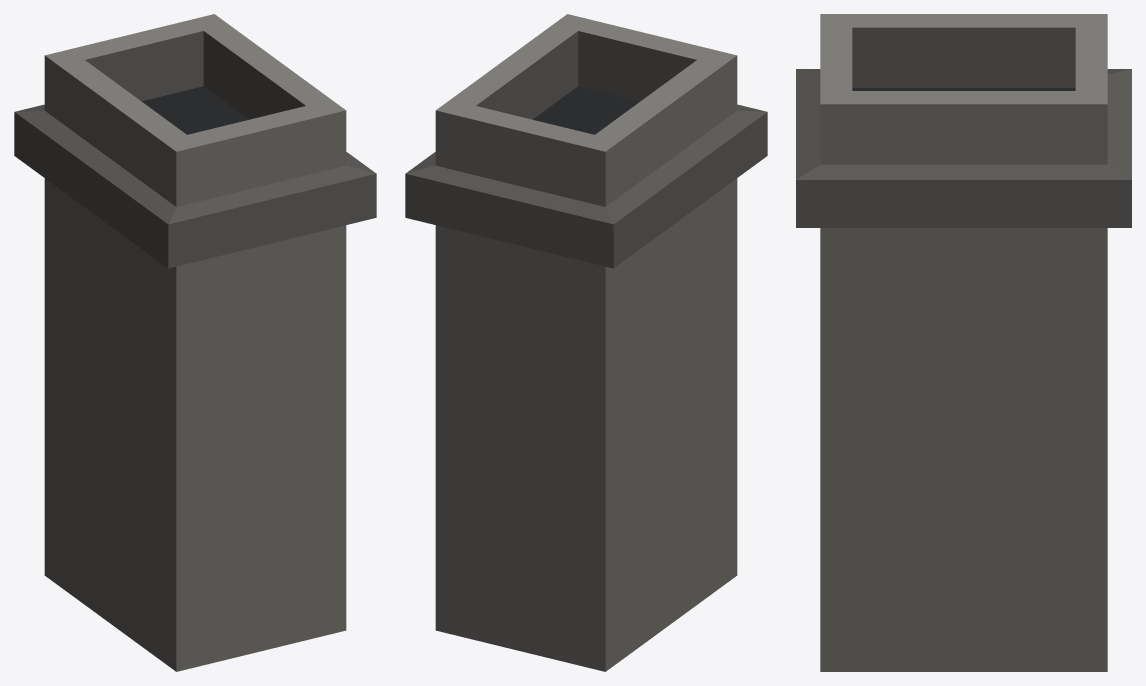
File: SM_Bld_Background_Chimney_02.fbx
3 renders of one model, left to right at view 1: azimuth 30°, elevation 25°; view 2: azimuth 150°, elevation 25°; view 3: azimuth 270°, elevation 25°, orthographic. The views are drawn at different scales.
Visible parts, largest first — view 1: SM_Bld_Background_Chimney_02; view 2: SM_Bld_Background_Chimney_02; view 3: SM_Bld_Background_Chimney_02.
Boxes of the visible parts, x1,y1,x2,y2 form: SM_Bld_Background_Chimney_02: [14, 14, 376, 671]; SM_Bld_Background_Chimney_02: [405, 14, 767, 671]; SM_Bld_Background_Chimney_02: [796, 14, 1131, 671].
Size of the model in its own units: 92.76 by 221 by 119.
Materials: 1 (1 with a texture image).
